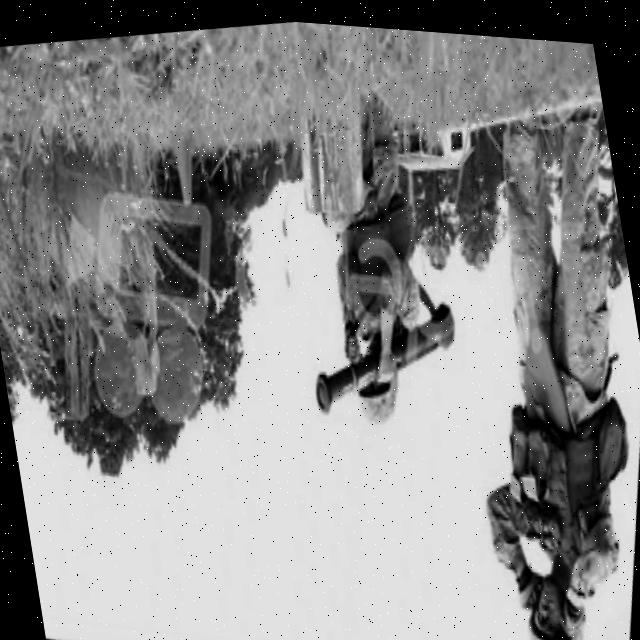rocket: (294, 260, 476, 448)
